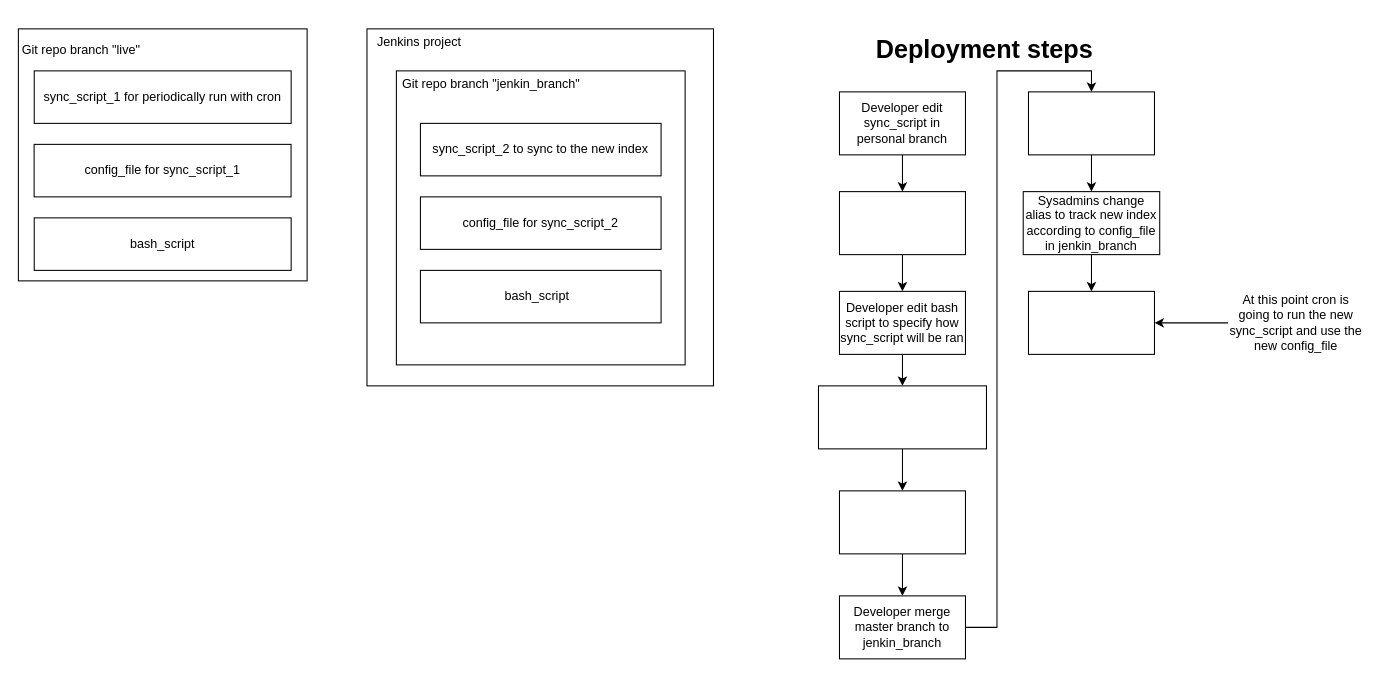
The diagram is 1383 pixels wide and 677 high, and some of its shapes have lost their labels. The centre of each missing label's shape, as x and y in pixels:
"Developer edit config_file in personal branch" goes at point (901, 223).
"Developer merge issue branch to master branch" goes at point (901, 522).
"Developer merge master branch to live branch" goes at point (1090, 322).
"Developer push sync_script, config_file and bash_script to issue branch" goes at point (901, 417).
"Developer trigger Jenkins build to run sync_script" goes at point (1090, 123).
